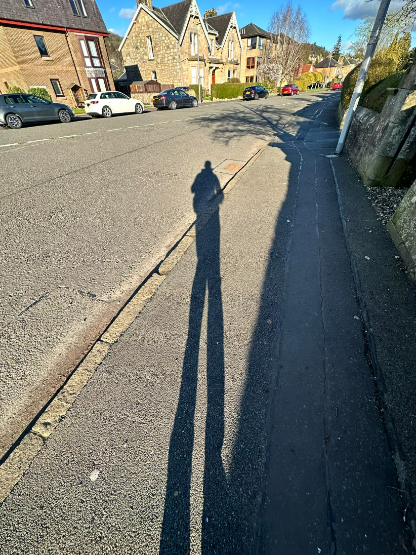car: (0, 85, 75, 137), (85, 81, 153, 125), (157, 83, 200, 123), (239, 77, 272, 109), (328, 77, 347, 93), (286, 81, 304, 97)
tree: (261, 5, 305, 81)
